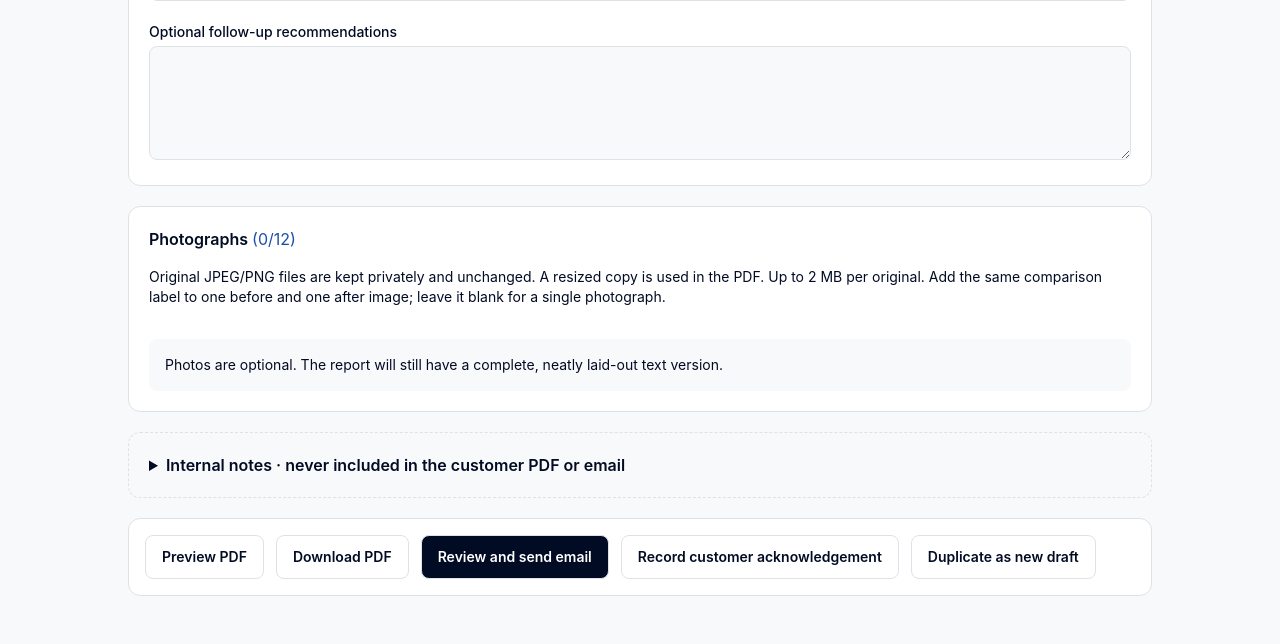
Test: Completion reports owner workflow › keeps a final report read-only and requires explicit recipient approval before sending
Later steps or results of the test are not shown.
(page scrolled)
Click the button "Review and send email": (515, 557) [421,535,609,579]
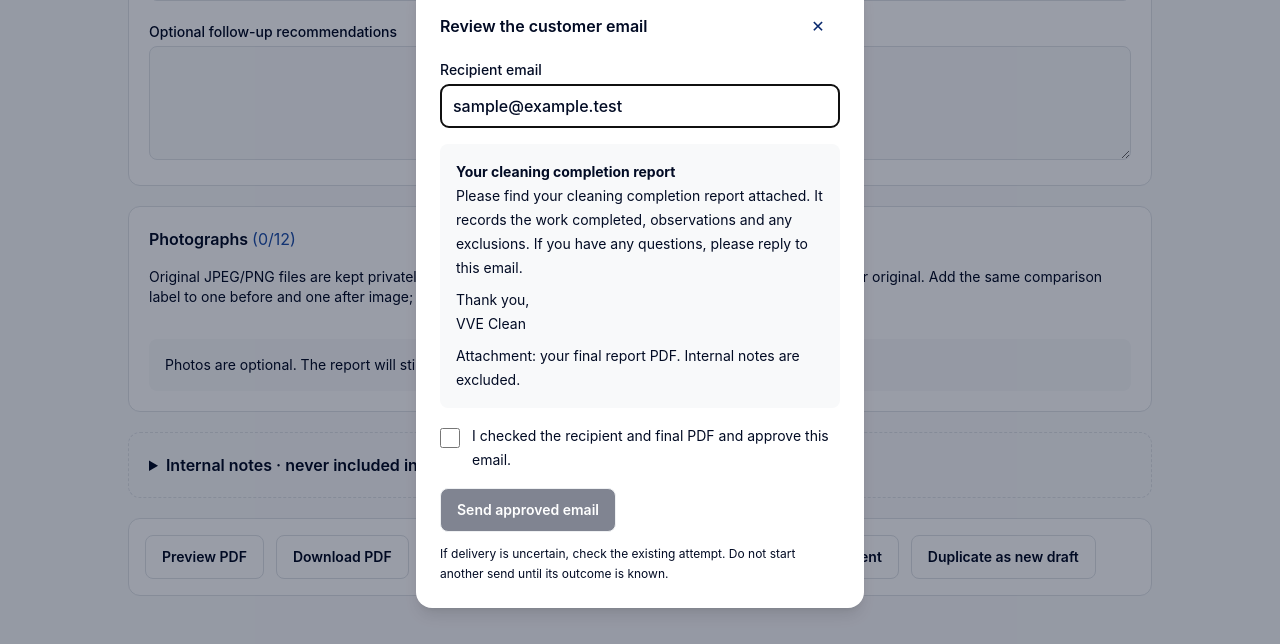
Check: the button "Send approved email" is disabled, box [440,488,616,532]
